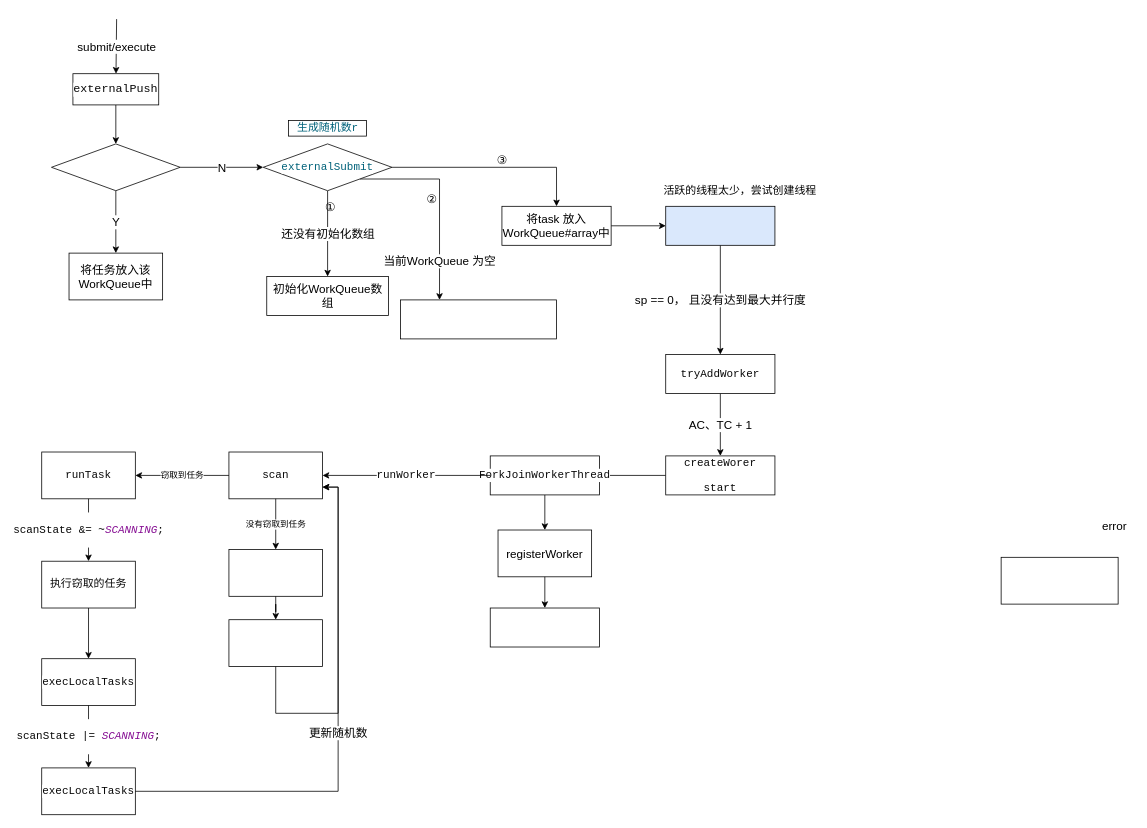
Image size: 1147x828. Some labels were removed from this diagram. Each missing label, with the centre of its shape:
awaitWork: [275,572]
deregisterWorker: [1059,580]
park: [275,643]
signalWork: [720,225]
WorkQueue 奇数位置不为空: [115,167]
创建WorkQueue对象: [478,319]
创建WorkQueue，放入奇数位置: [544,627]
